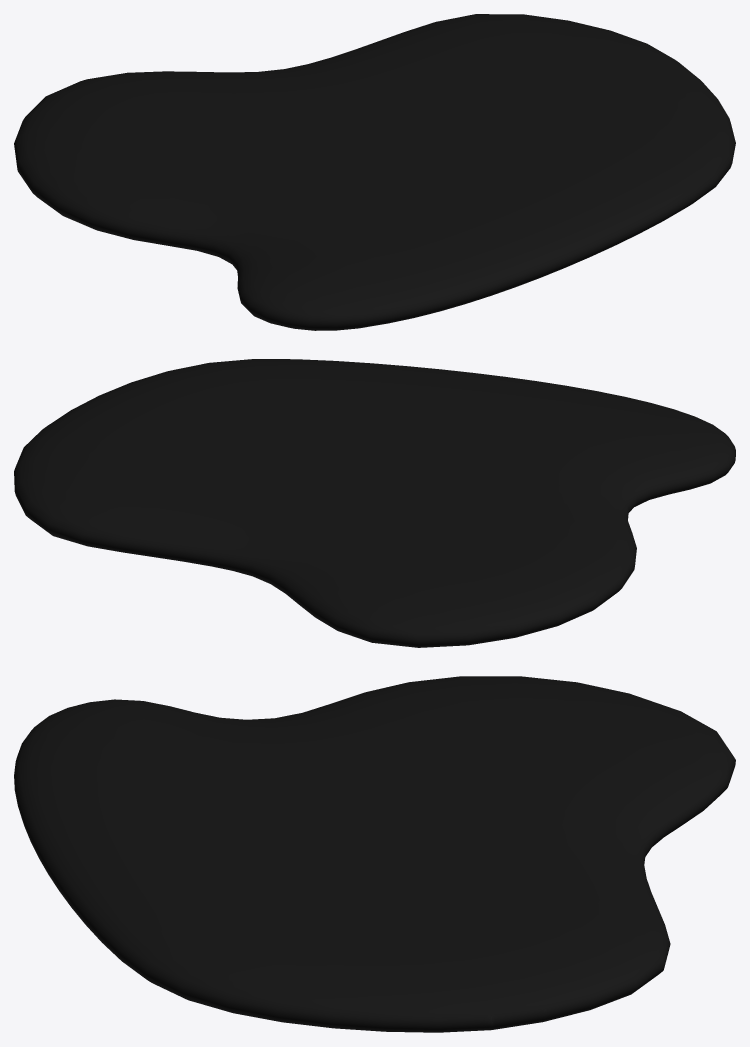
The model's file is static2.fbx.
The picture shows the model from 3 angles, top to bottom: view 1: azimuth 30°, elevation 25°; view 2: azimuth 150°, elevation 25°; view 3: azimuth 270°, elevation 25°; orthographic projection. The views are drawn at different scales.
Parts seen in each view (by area): view 1: Remesh; view 2: Remesh; view 3: Remesh.
Part boxes in pixels (left/top/right/bottom): Remesh: left=14, top=14, right=735, bottom=330; Remesh: left=14, top=359, right=735, bottom=647; Remesh: left=14, top=676, right=735, bottom=1032.
Bounding box in the file's own units: 342 × 22.43 × 305.
Materials: 1 (1 with a texture image).
